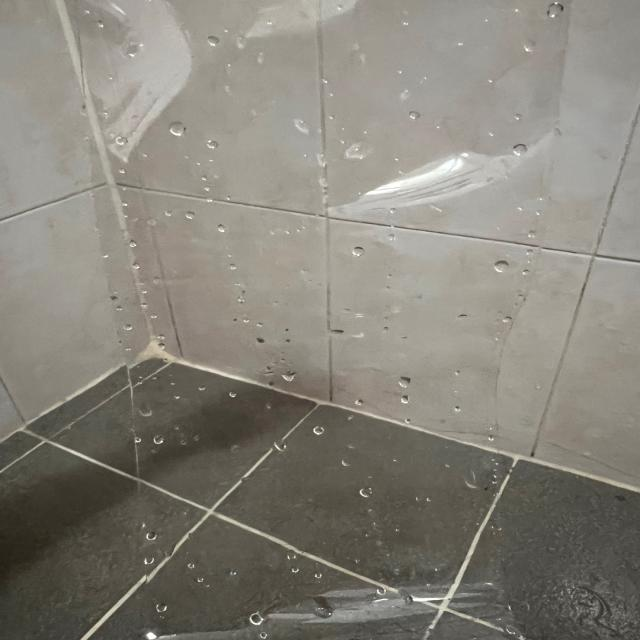raindrop: (483, 253, 514, 274), (344, 140, 368, 164), (292, 115, 316, 138), (121, 42, 152, 59), (134, 401, 159, 422), (512, 40, 549, 54), (355, 481, 378, 503), (307, 418, 330, 438), (545, 7, 572, 24), (509, 142, 531, 162), (166, 121, 193, 137), (446, 402, 470, 420), (269, 434, 288, 454), (397, 392, 417, 411), (204, 138, 227, 154), (314, 173, 335, 190), (143, 528, 162, 546), (324, 325, 350, 338), (200, 34, 220, 50), (394, 374, 414, 390), (278, 368, 307, 379), (344, 396, 370, 408), (225, 385, 239, 407), (94, 18, 113, 34), (497, 310, 512, 330), (314, 152, 331, 166), (225, 262, 242, 276), (136, 552, 159, 562), (215, 221, 235, 232), (231, 35, 246, 49), (150, 432, 164, 447), (395, 90, 414, 101), (350, 330, 367, 342), (350, 246, 362, 262), (284, 548, 298, 560), (118, 133, 132, 144), (162, 206, 171, 222), (183, 209, 199, 218), (127, 260, 143, 268), (120, 318, 134, 327), (406, 114, 420, 122), (288, 564, 303, 570), (131, 434, 142, 442)
